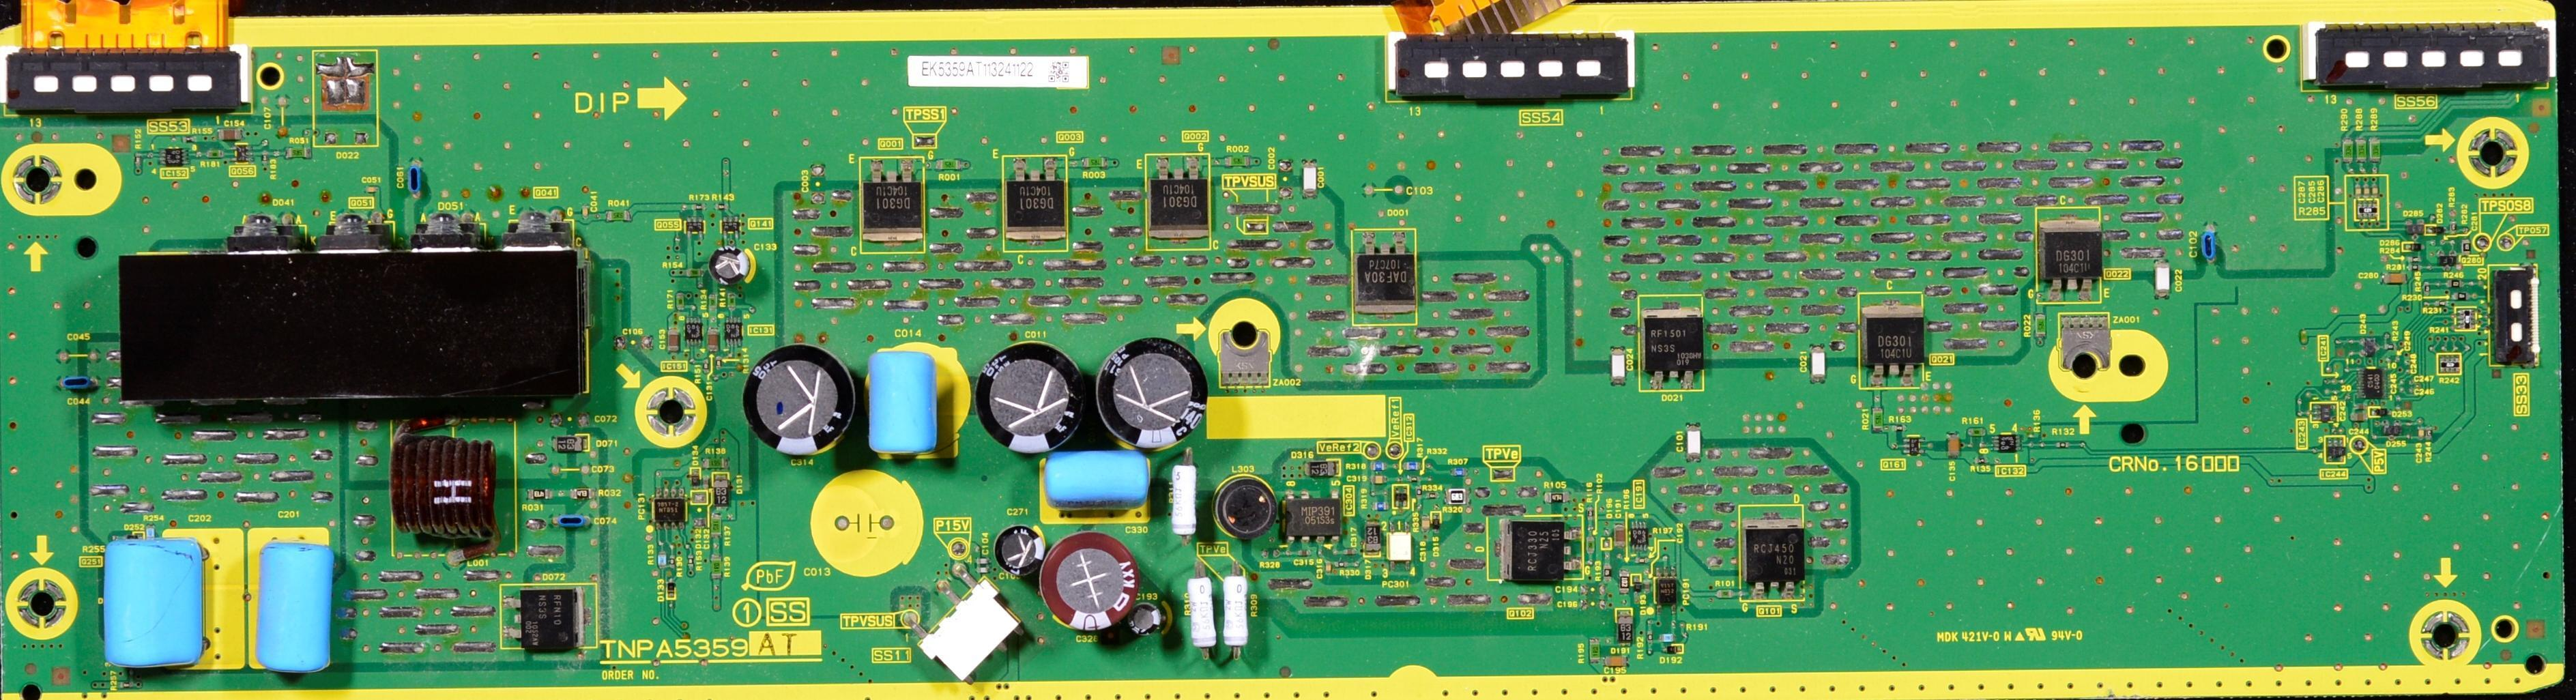Capacitor: (103, 538, 219, 671), (250, 535, 343, 683), (970, 348, 1097, 453), (1099, 338, 1206, 452), (867, 342, 957, 465), (1041, 531, 1142, 634), (1038, 449, 1157, 523), (1040, 446, 1144, 518), (983, 522, 1056, 585), (704, 244, 764, 291), (1675, 416, 1709, 462), (1801, 342, 1832, 390), (54, 369, 103, 397), (805, 162, 833, 209), (1297, 158, 1329, 196), (1609, 343, 1634, 392), (2152, 261, 2178, 302), (1943, 433, 1971, 466), (212, 123, 251, 140), (1612, 523, 1633, 551), (2383, 267, 2411, 287), (1602, 653, 1629, 670), (663, 328, 681, 354), (2435, 252, 2462, 269), (706, 325, 721, 353), (579, 201, 596, 222), (1420, 512, 1432, 540), (363, 183, 385, 197), (1365, 473, 1391, 485), (1322, 557, 1333, 579), (2350, 411, 2367, 424), (2361, 184, 2373, 200), (1344, 547, 1361, 557), (2352, 181, 2361, 199), (1298, 547, 1313, 557), (1645, 579, 1653, 596), (2372, 185, 2381, 199), (2417, 427, 2425, 443), (2352, 404, 2371, 410)
Connector: (2283, 15, 2576, 115), (1375, 25, 1673, 122), (4, 40, 257, 110)
IC: (1275, 497, 1351, 541), (2319, 433, 2354, 471), (156, 143, 191, 175), (2358, 368, 2390, 400), (2303, 401, 2343, 423), (1992, 431, 2025, 456)
Resistor: (1177, 572, 1222, 652), (1165, 457, 1204, 542), (1213, 576, 1253, 650), (2027, 308, 2055, 348), (2350, 200, 2387, 225), (2455, 308, 2483, 336), (289, 143, 321, 166), (1222, 148, 1259, 169), (936, 156, 966, 177), (2437, 353, 2463, 377), (707, 552, 729, 581), (523, 488, 558, 505), (702, 455, 734, 471), (1543, 490, 1575, 506), (1966, 419, 1991, 439), (205, 147, 229, 167), (1445, 490, 1471, 508), (711, 514, 729, 540), (1871, 403, 1887, 432), (1588, 638, 1603, 667), (2340, 138, 2356, 164), (1340, 558, 1368, 573), (570, 482, 596, 498), (2369, 136, 2383, 163), (1619, 570, 1634, 594), (1714, 589, 1739, 602), (2446, 276, 2470, 289), (1258, 548, 1283, 560), (655, 547, 667, 572), (672, 290, 686, 312), (1583, 536, 1597, 557), (2451, 291, 2477, 302), (1450, 466, 1471, 479), (1601, 563, 1614, 584), (1586, 503, 1600, 523), (142, 523, 158, 540), (1632, 574, 1643, 598), (1402, 459, 1423, 471), (2357, 137, 2365, 165), (1889, 423, 1913, 433), (1369, 461, 1389, 471), (1421, 489, 1441, 500), (669, 553, 680, 573), (179, 133, 200, 143), (727, 292, 737, 312), (2461, 239, 2474, 255), (1632, 554, 1651, 565), (1374, 501, 1391, 513), (708, 293, 717, 314), (1645, 630, 1655, 648), (1405, 474, 1423, 484), (686, 269, 702, 280), (1415, 486, 1428, 499), (2027, 425, 2038, 440), (2407, 263, 2426, 272), (2055, 441, 2071, 451), (2422, 281, 2433, 295), (2405, 254, 2424, 262), (716, 356, 723, 374), (702, 357, 710, 373), (2425, 427, 2433, 443), (2449, 220, 2458, 233), (2385, 343, 2398, 352)
Transistor: (740, 345, 864, 457), (1123, 155, 1221, 260), (853, 150, 935, 261), (1736, 512, 1819, 600), (1001, 150, 1077, 246), (1495, 512, 1583, 587), (2034, 215, 2109, 295), (1859, 312, 1929, 375), (1898, 431, 1926, 463), (227, 141, 259, 167), (719, 213, 749, 239), (722, 318, 747, 348), (681, 317, 702, 348), (684, 216, 708, 237)
